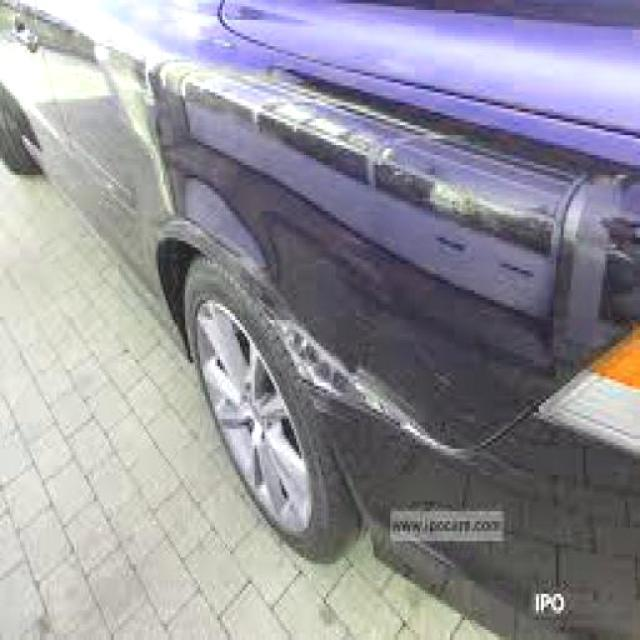car damage: (276, 304, 478, 487)
